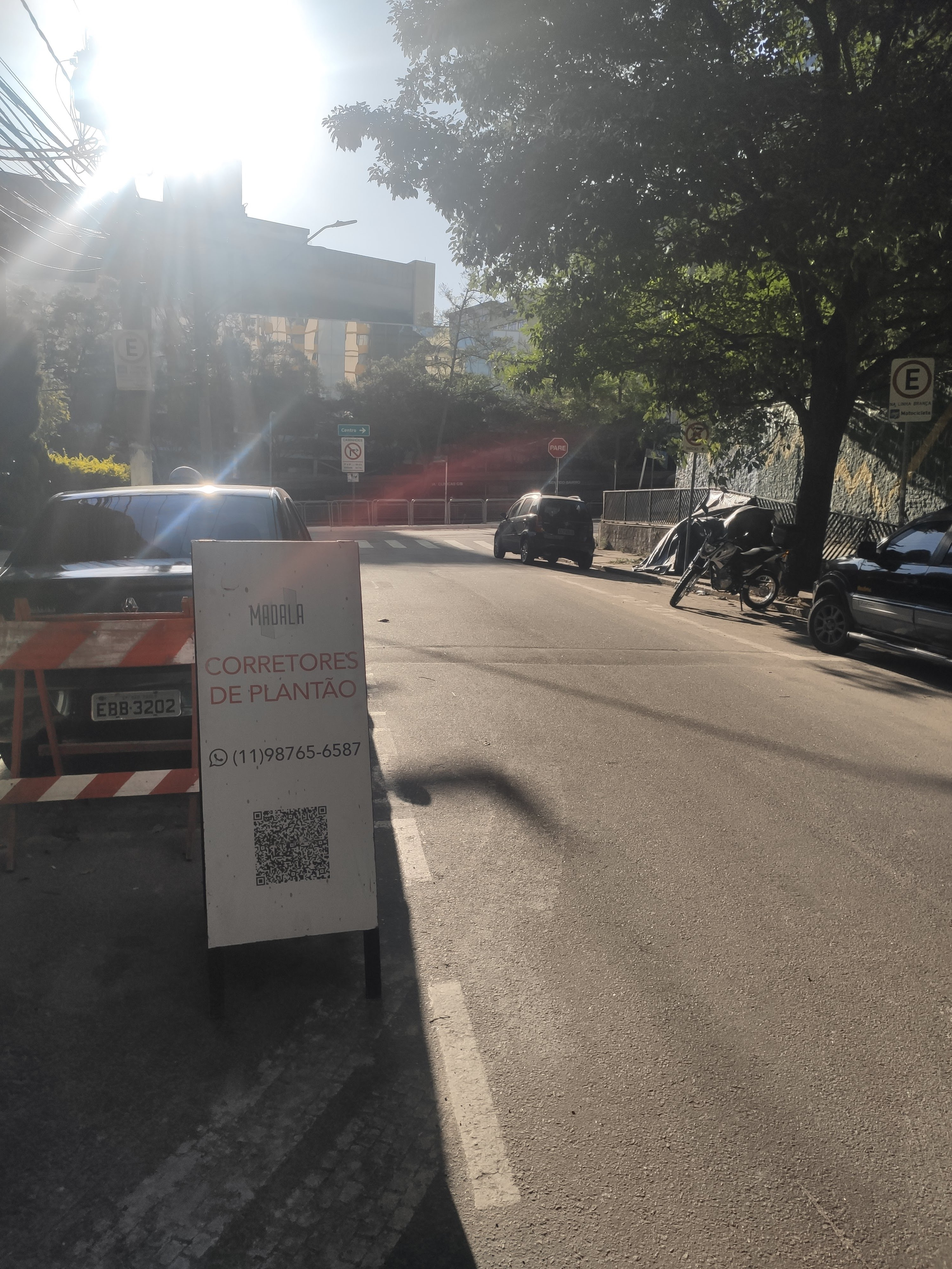QR-CODE: (253, 805, 330, 886)
